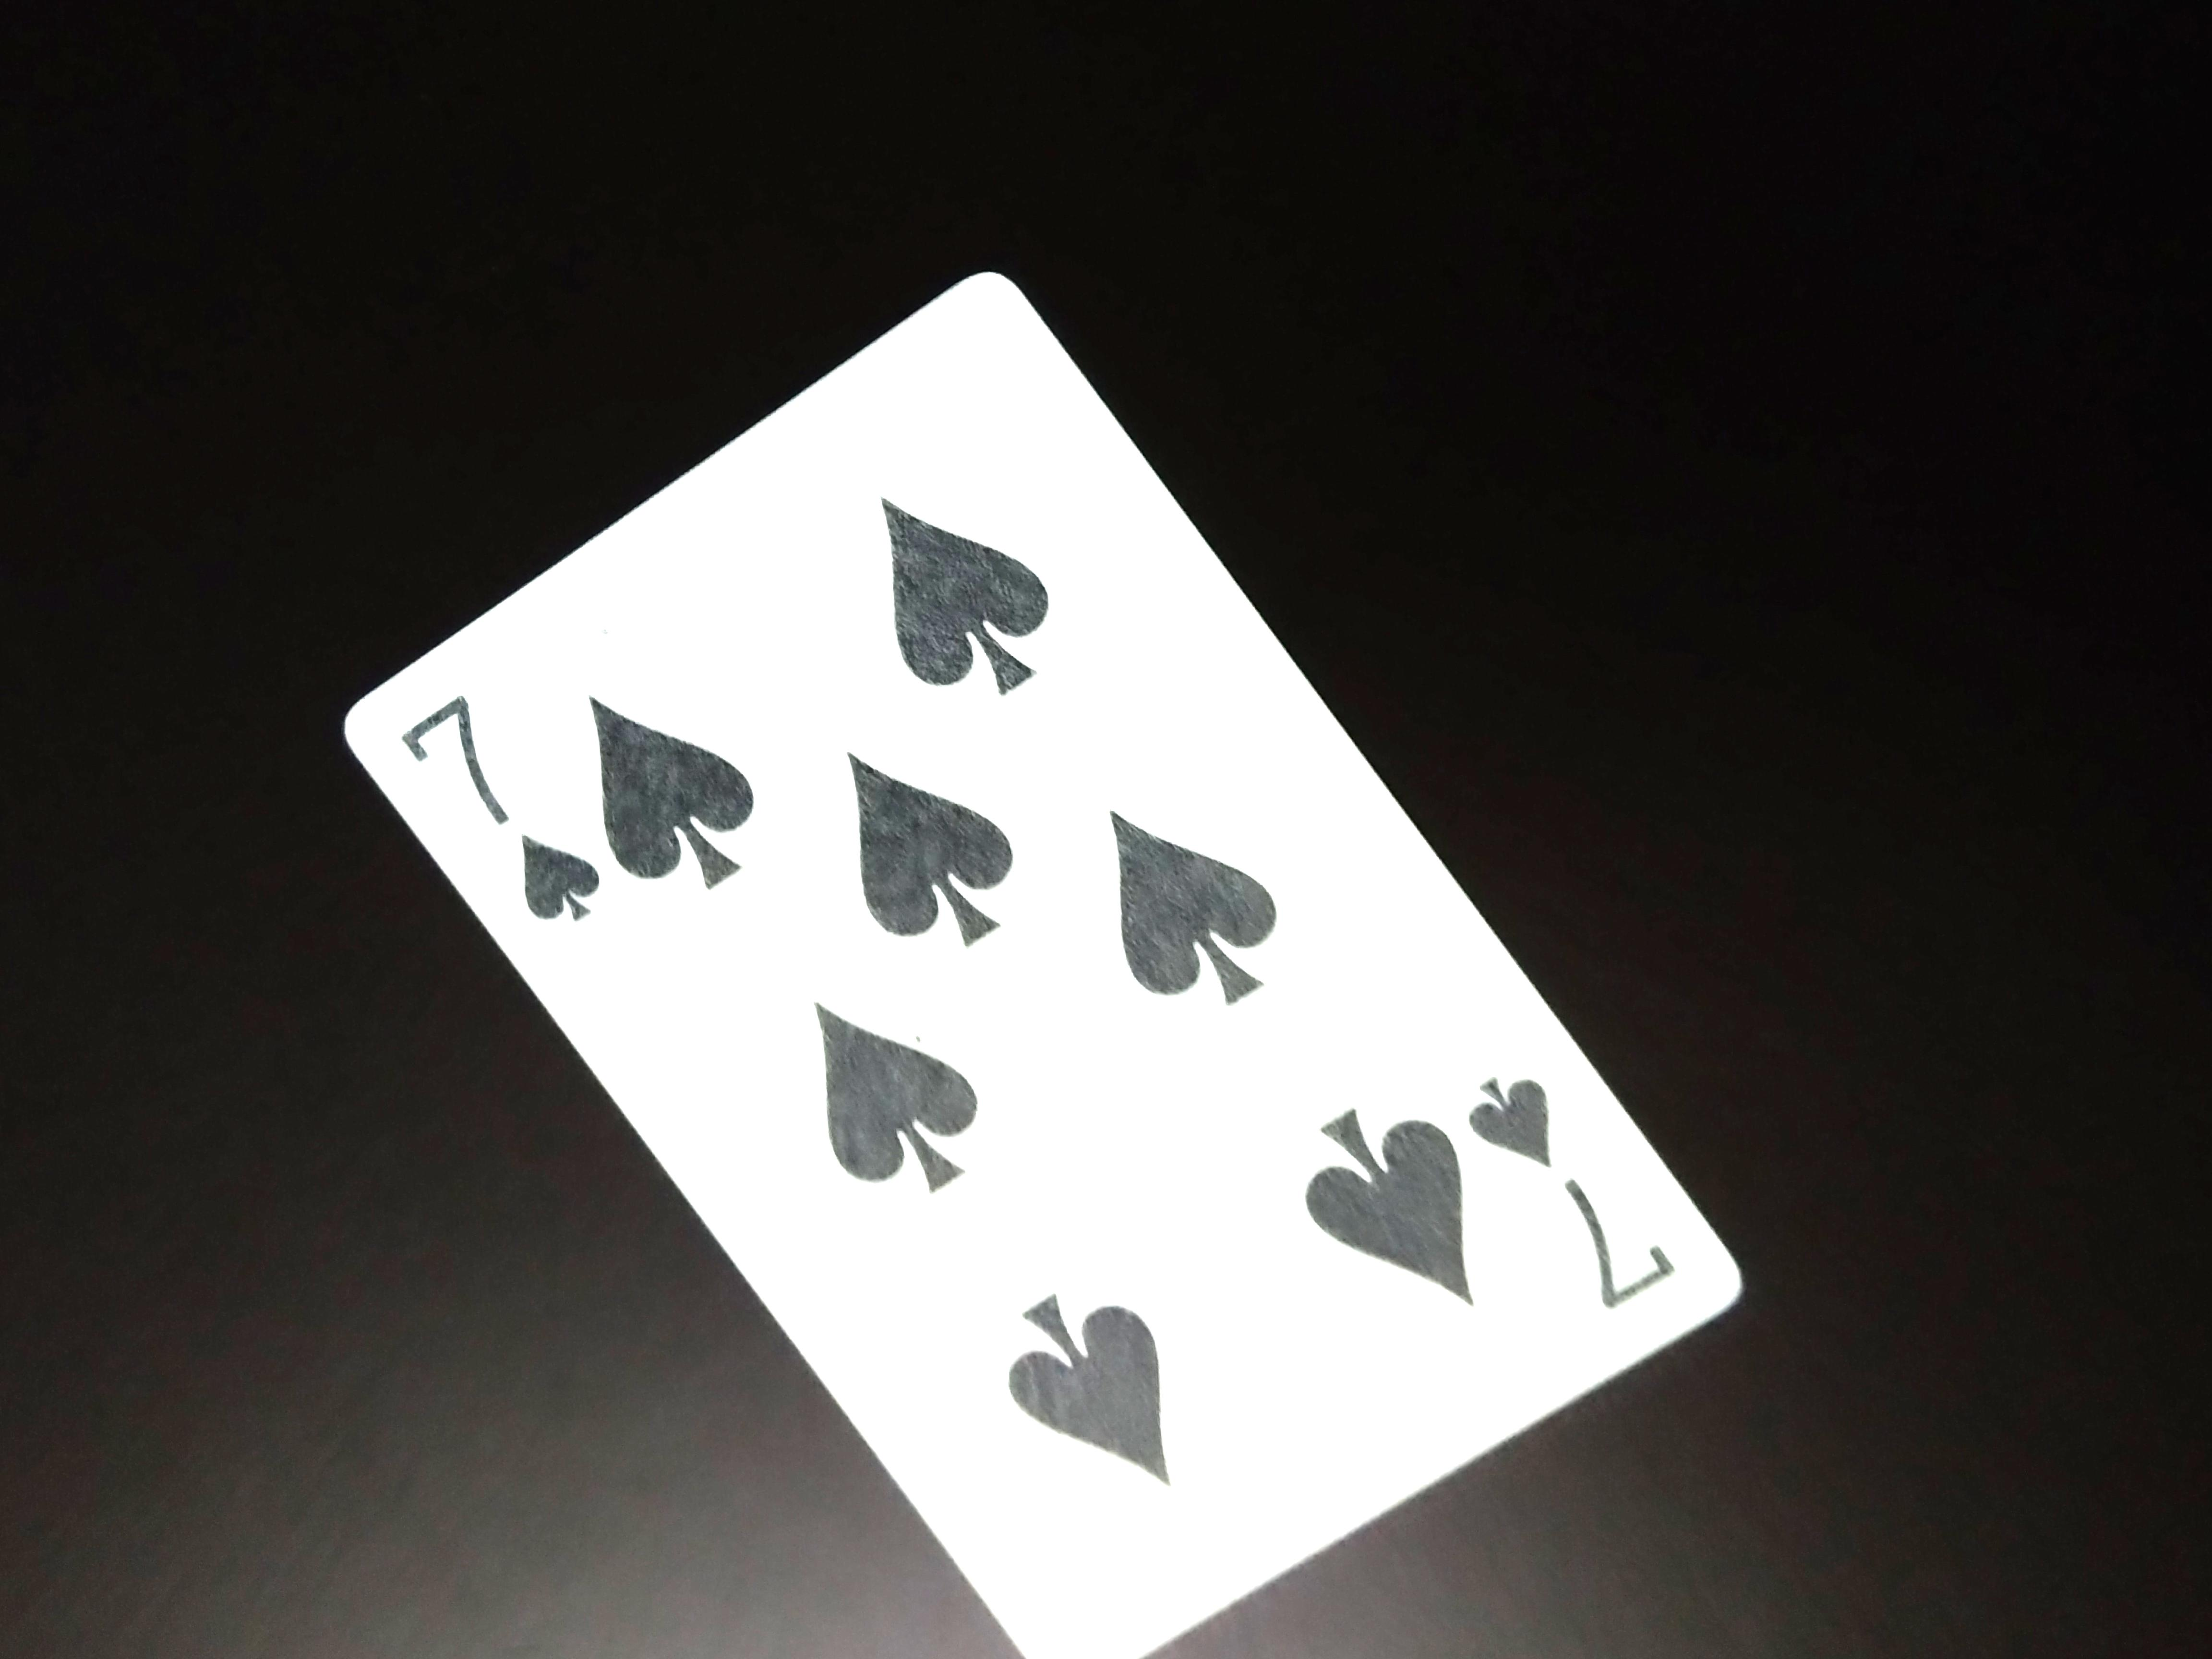7S: (390, 688, 613, 974)
